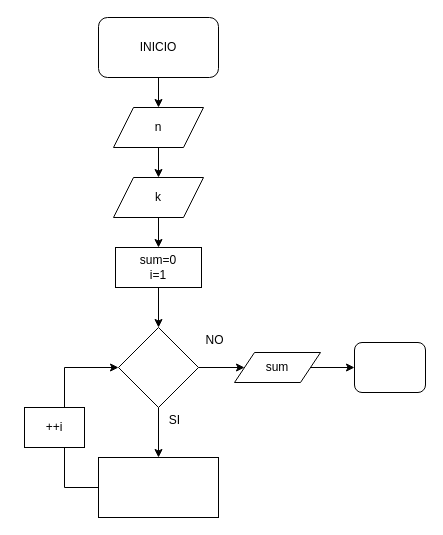
Image size: 443x535. Some labels were removed from this diagram. The shapes that lost their labels are listed below. From the top down, each one's centre as x and y in pixels, then its label:
At [158,367]: "n>=i".
At [390,367]: "FIN".
At [158,487]: "sum += pow(i,k)".
